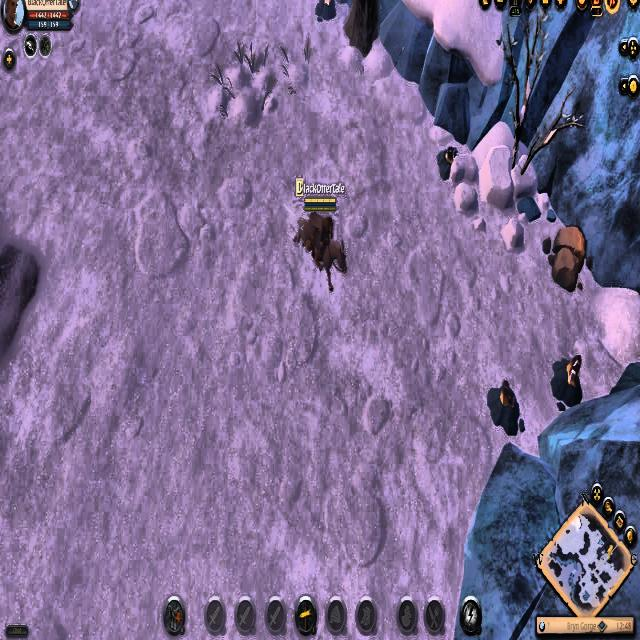copperore: (482, 374, 522, 436), (551, 354, 584, 406), (436, 139, 462, 180), (313, 0, 338, 18)
limestone: (545, 220, 589, 290)
